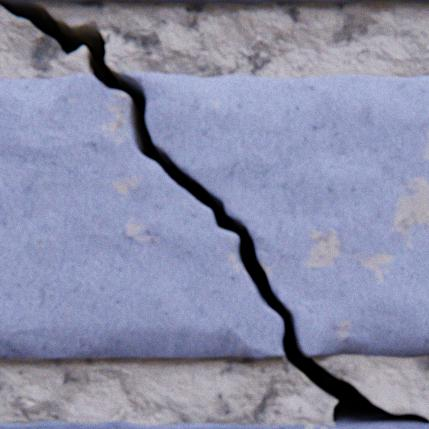brick: (0, 420, 428, 428), (17, 0, 428, 6)
broken_brick: (122, 73, 428, 357), (0, 75, 284, 358)
crack: (0, 0, 428, 426)
